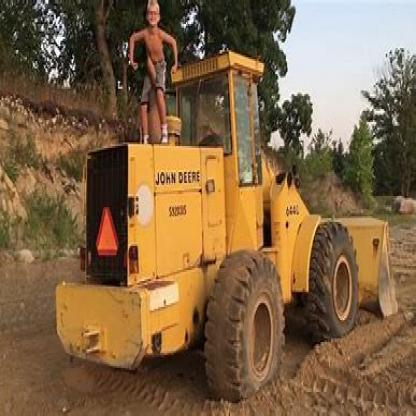bull_dozer/loader/grader: (52, 41, 404, 401)
